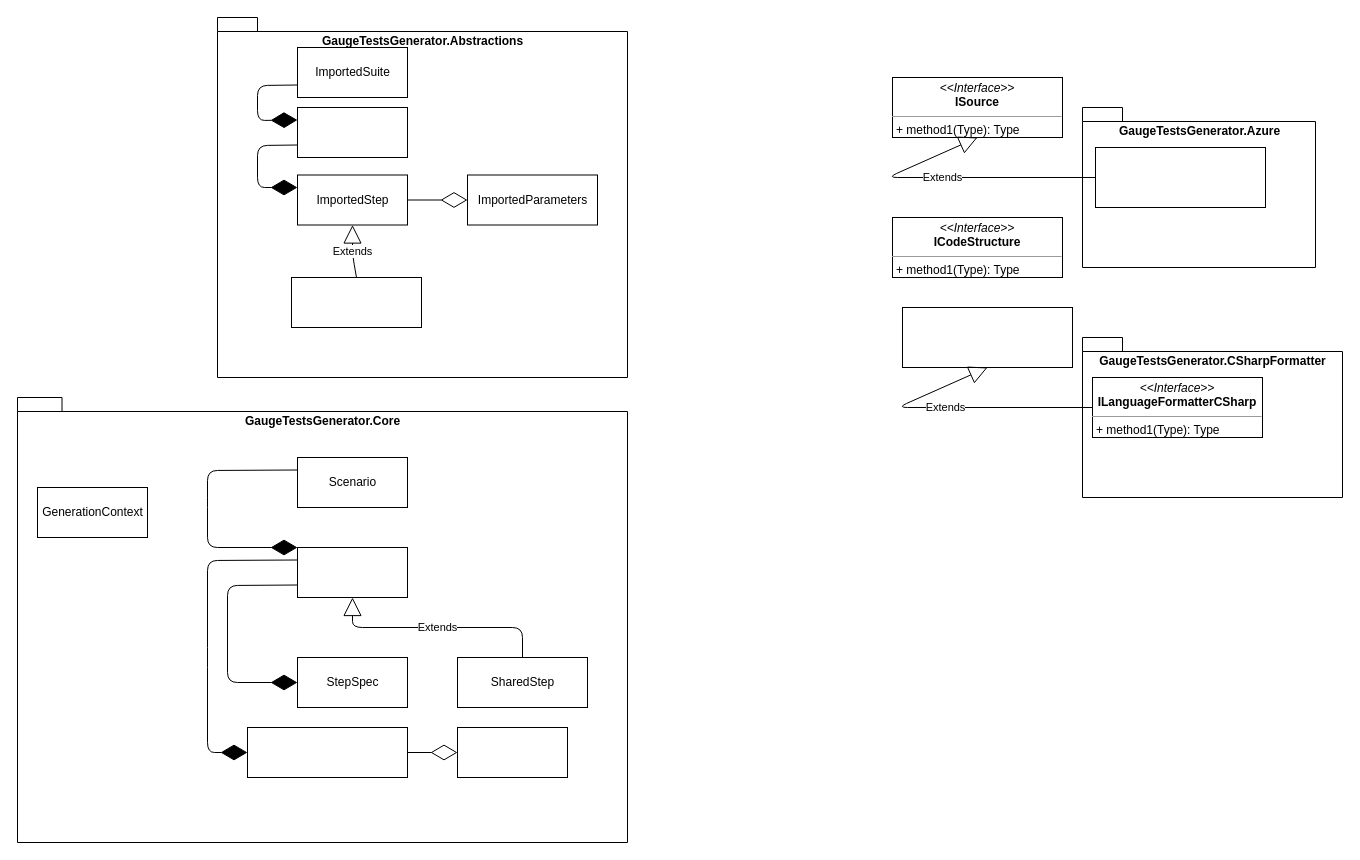
Image size: 1360x860. Some labels were removed from this diagram. Each missing label, with the centre of its shape:
"<<Interface>> ILanguageFormatter + method1(Type): Type" goes at point 987,337.
"<<Interface>> ISourceAzureTestCase + method1(Type): Type" goes at point 1180,177.
"ImportedScenario" goes at point 352,132.
"ImportedSharedStep" goes at point 356,302.
"Parameters" goes at point 512,752.
"Step" goes at point 352,572.
"StepImplementation" goes at point 327,752.
